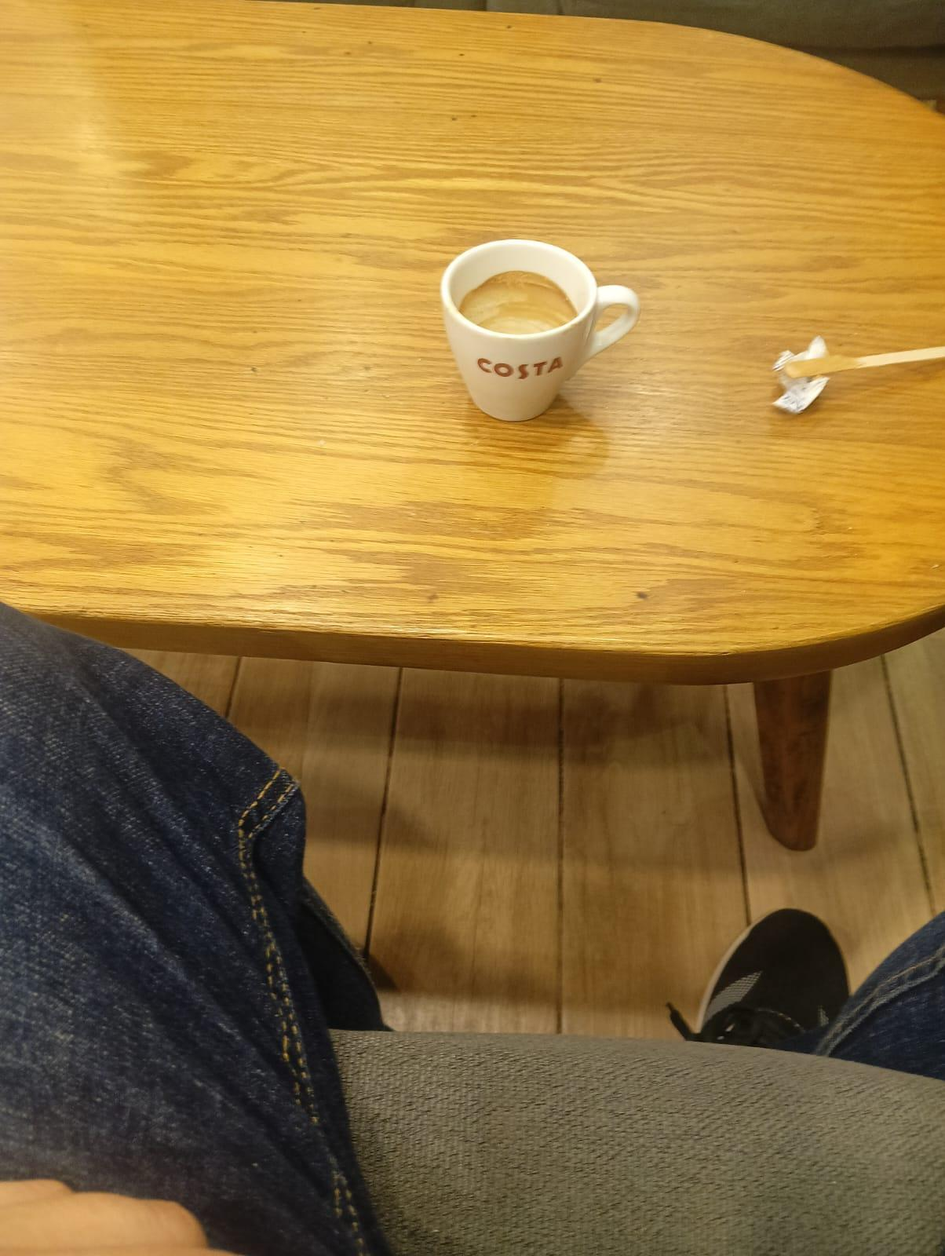cup: (441, 240, 638, 421)
